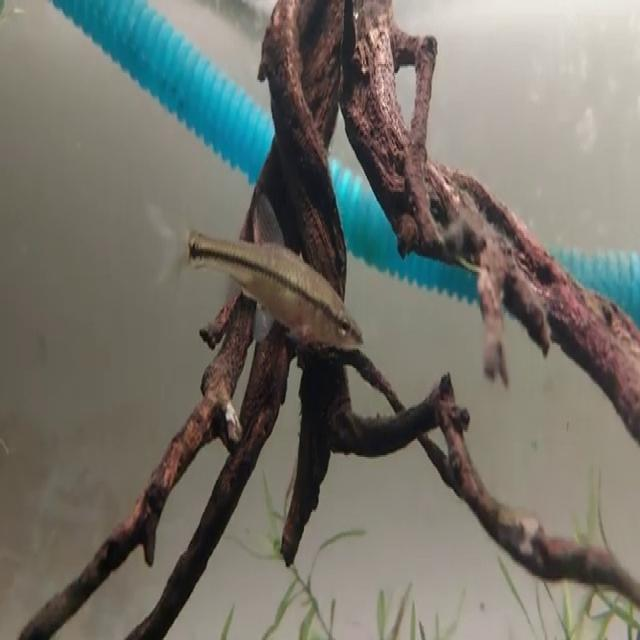Cakil Baligi: (185, 226, 364, 356)
